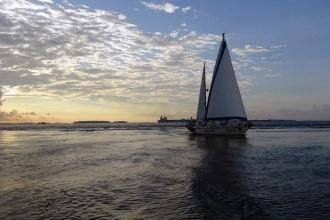fanchuan: (184, 32, 259, 138)
